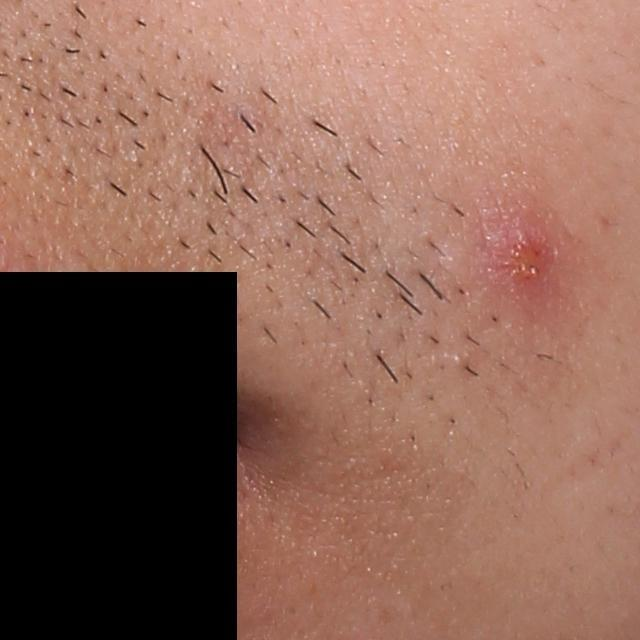papule: (483, 204, 570, 297)
